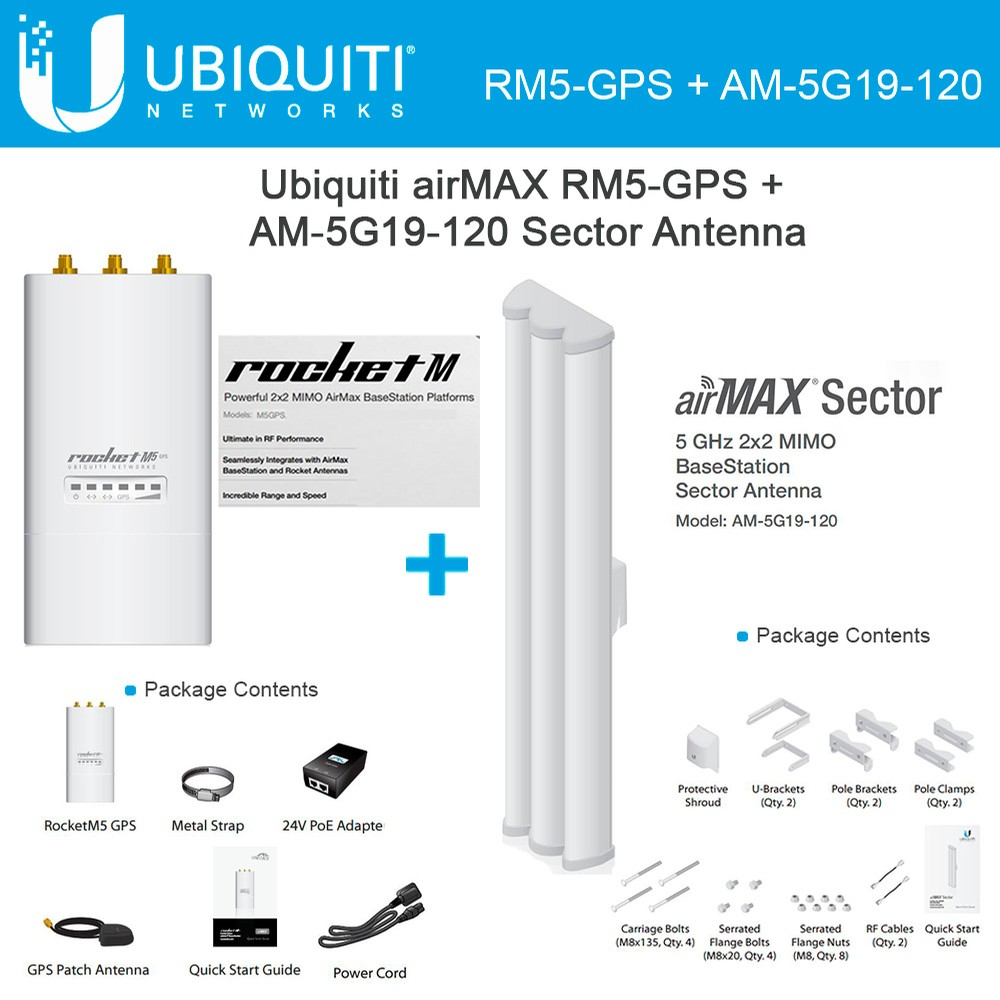sa: (488, 265, 629, 881)
